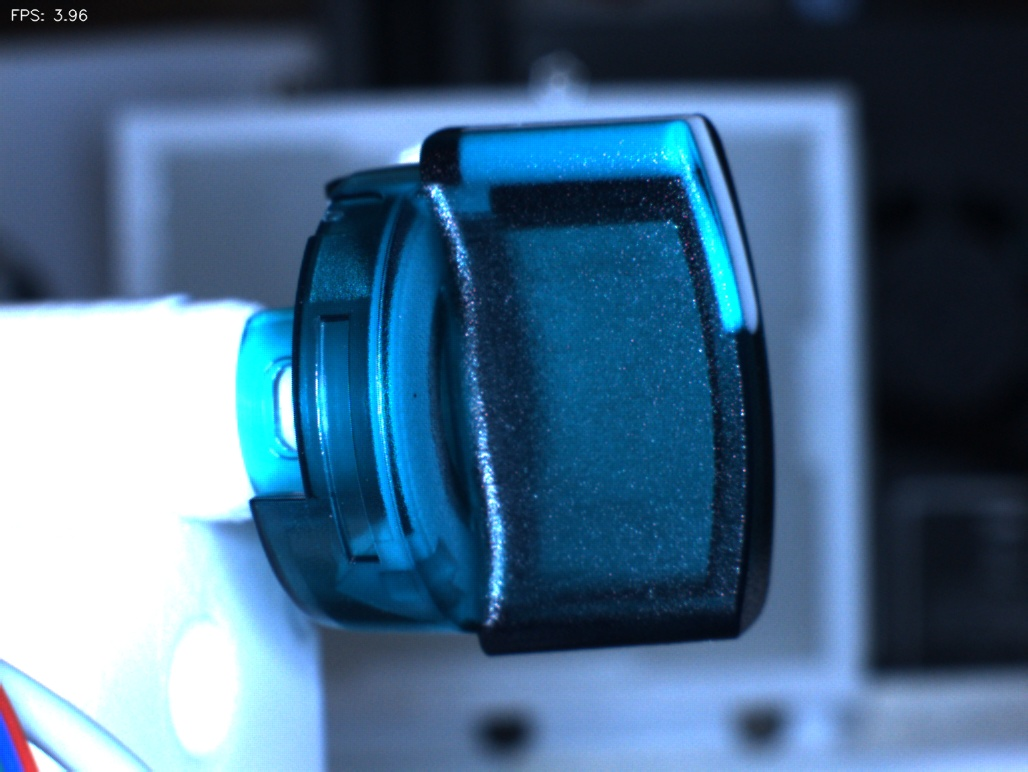PointNoir: (389, 366, 450, 425)
